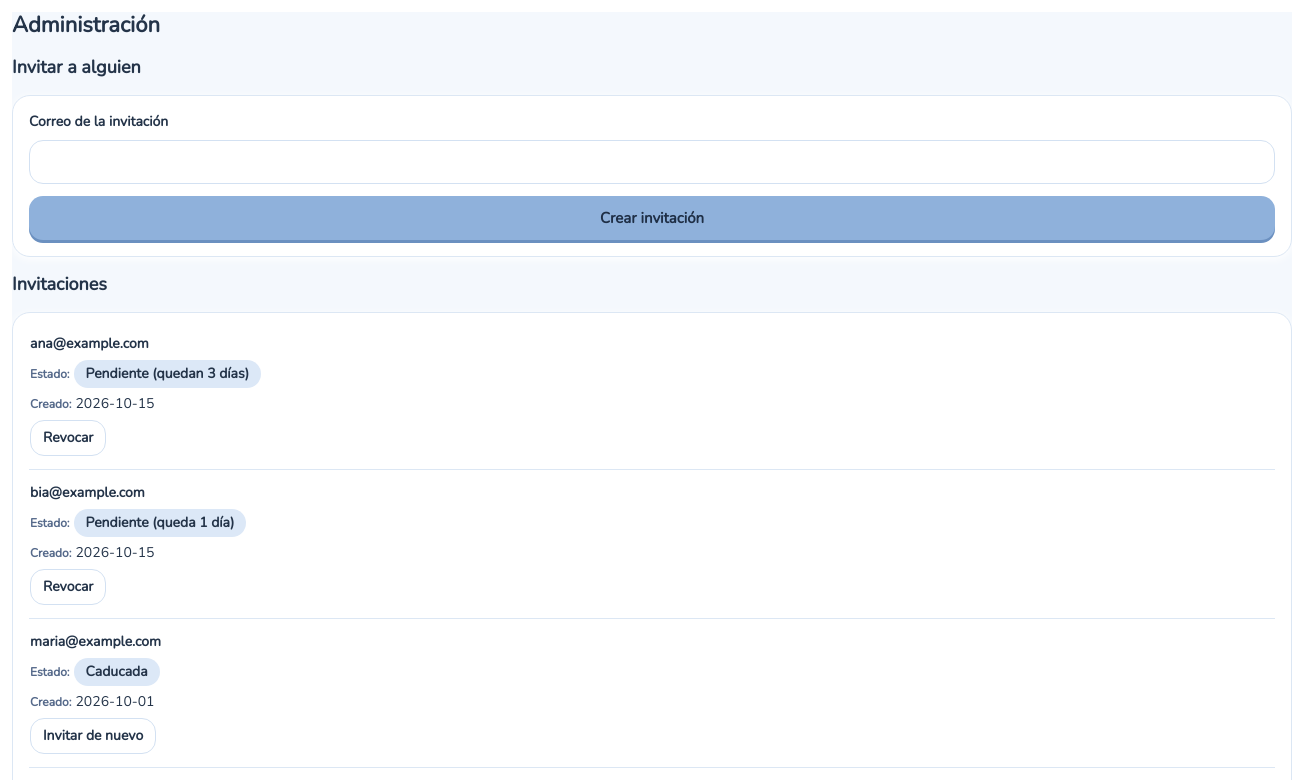
it: a created invite link is shown in es
The width and height of the screenshot is (1292, 780).
Type "new@example.com" into the field labelled "Correo de la invitación" at (652,162), box [29,140,1275,184]
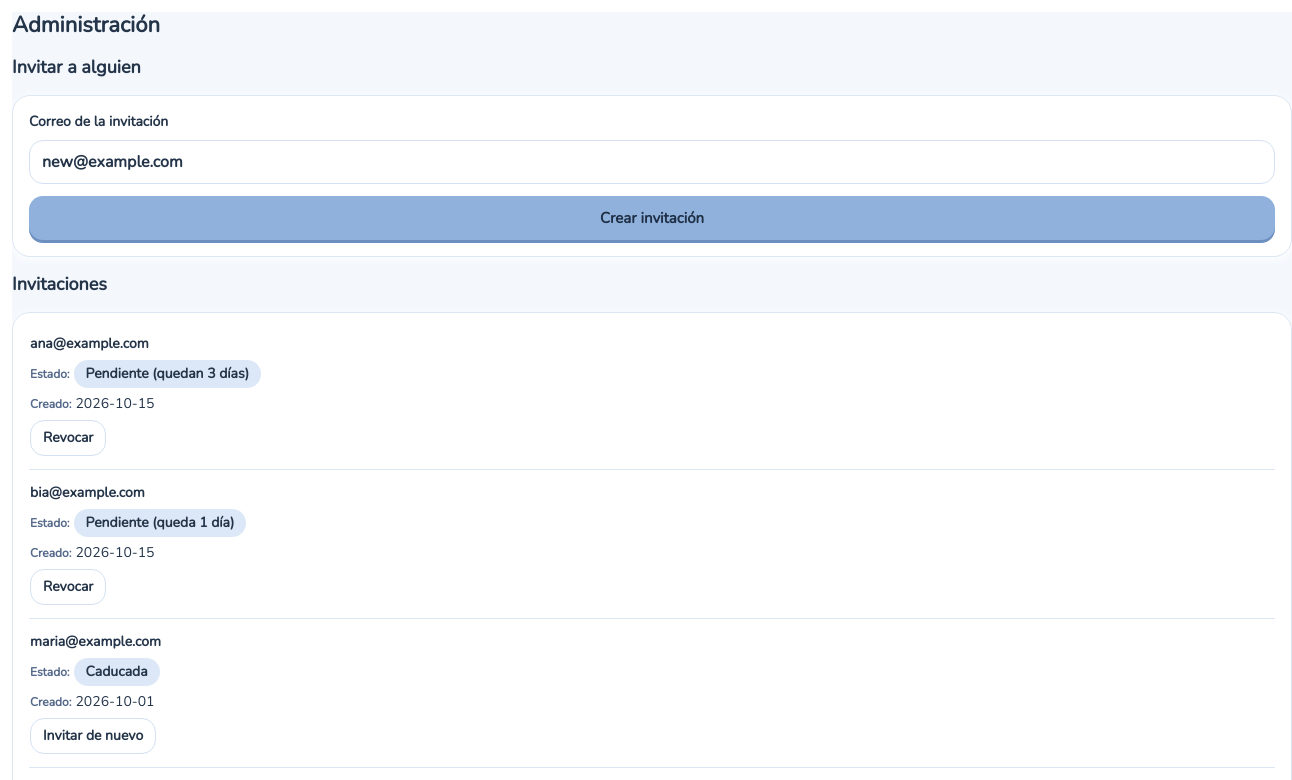
Click the button "Crear invitación" at (652,218), box [29,196,1275,240]
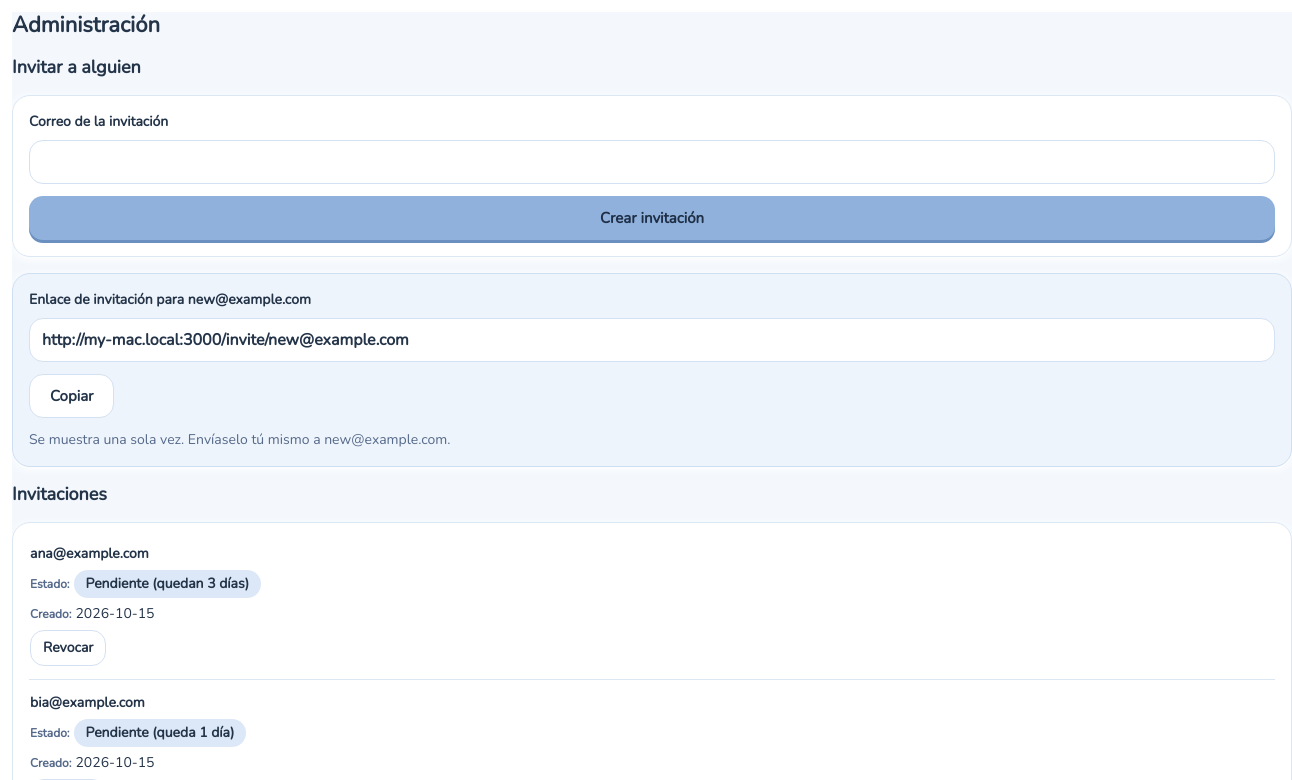
Result: the button "Copiar" is shown at [29,374,114,418]
